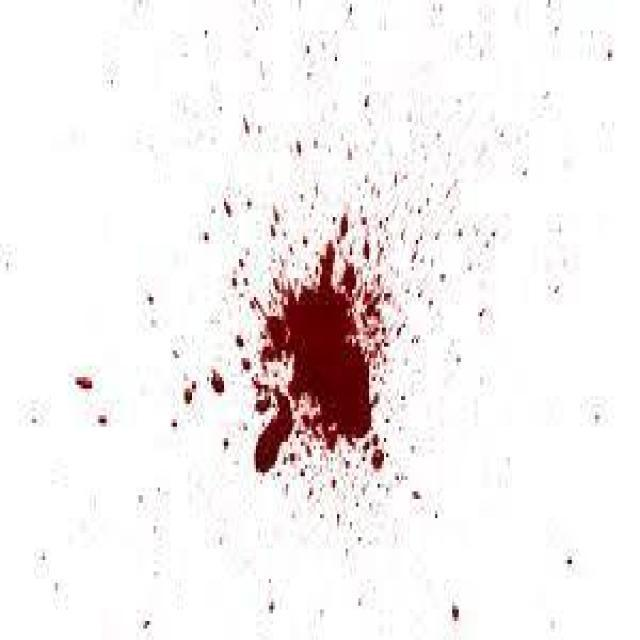flood: (235, 222, 383, 495)
